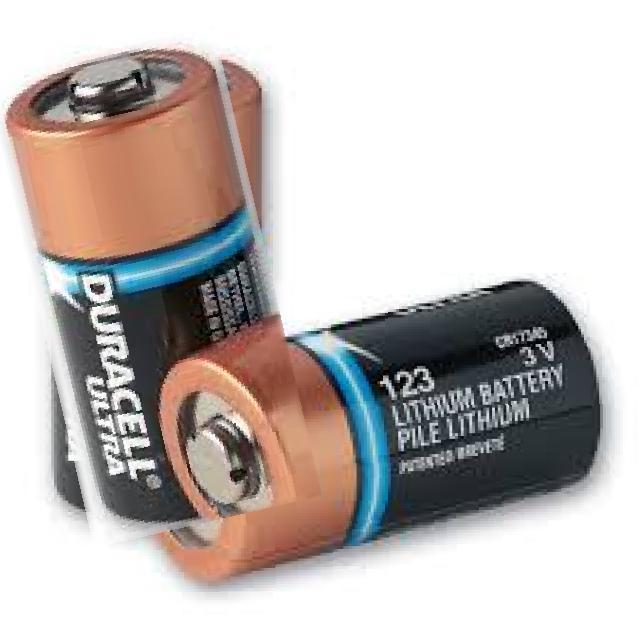Battery: (145, 269, 614, 588), (2, 42, 290, 518)
